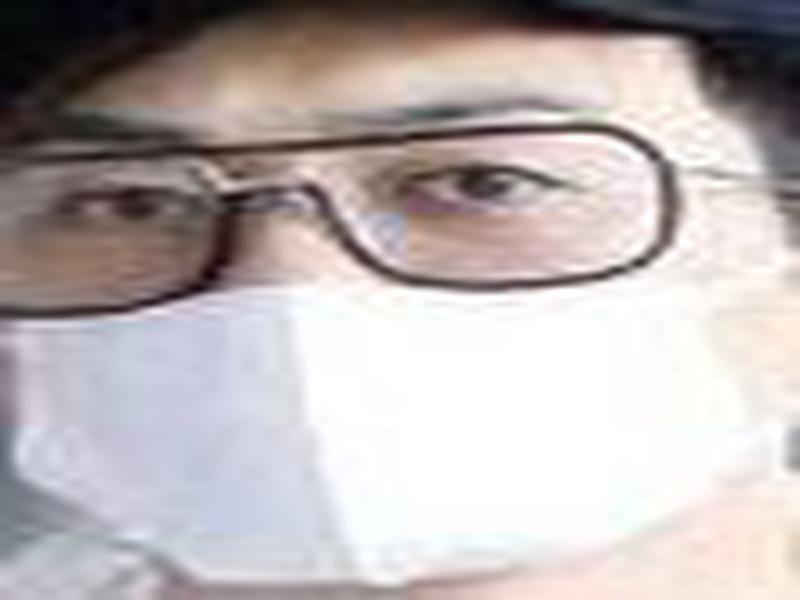with_mask: (1, 1, 797, 595)
